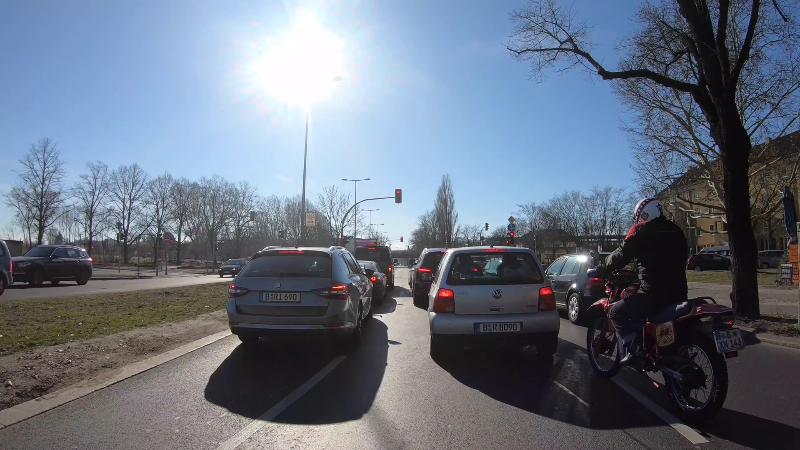Plate: (473, 320, 524, 335), (258, 289, 302, 304)
